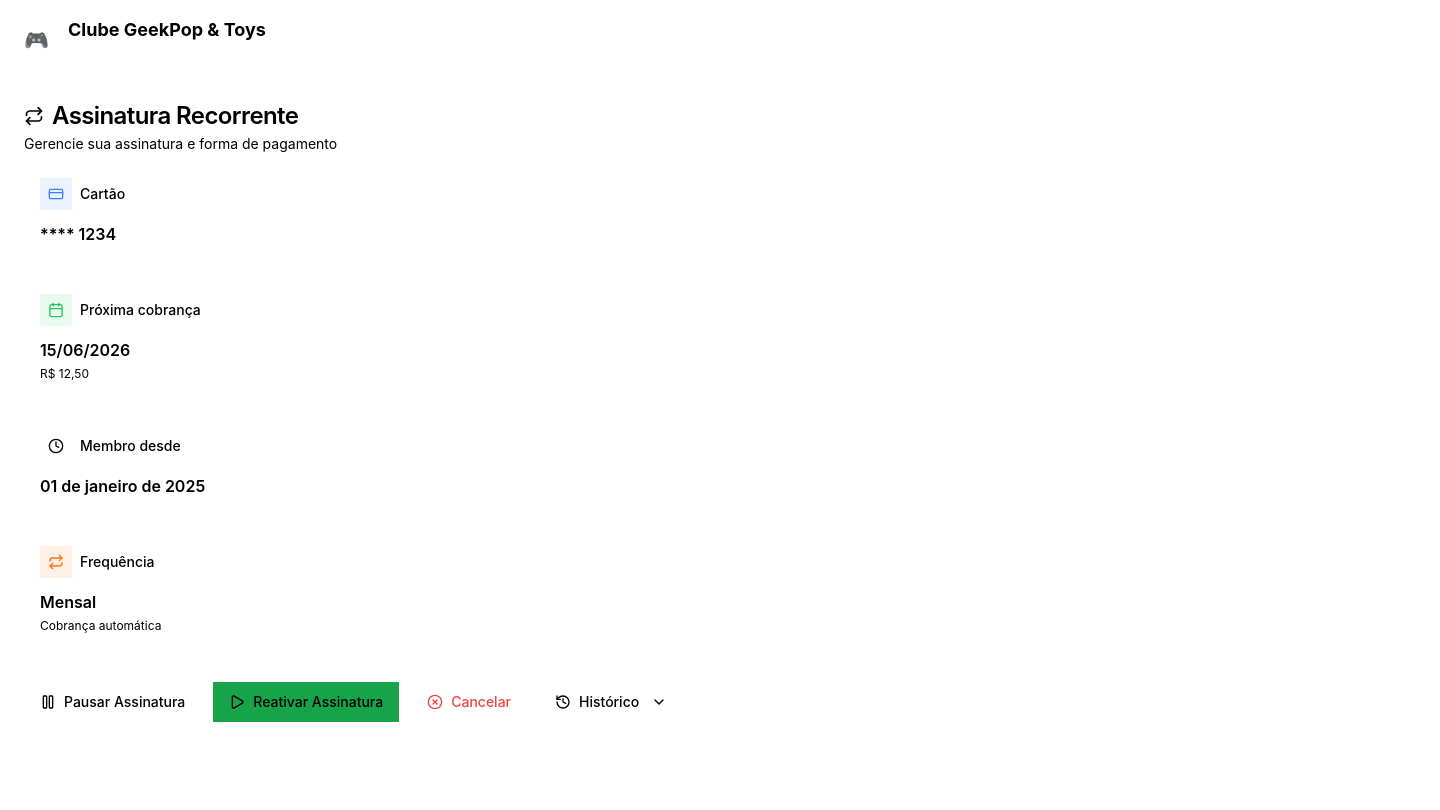
SubscriptionManagement › should open cancel confirmation dialog and show warnings
Click the button "Cancelar": (469, 702) left=411, top=682, right=527, bottom=722
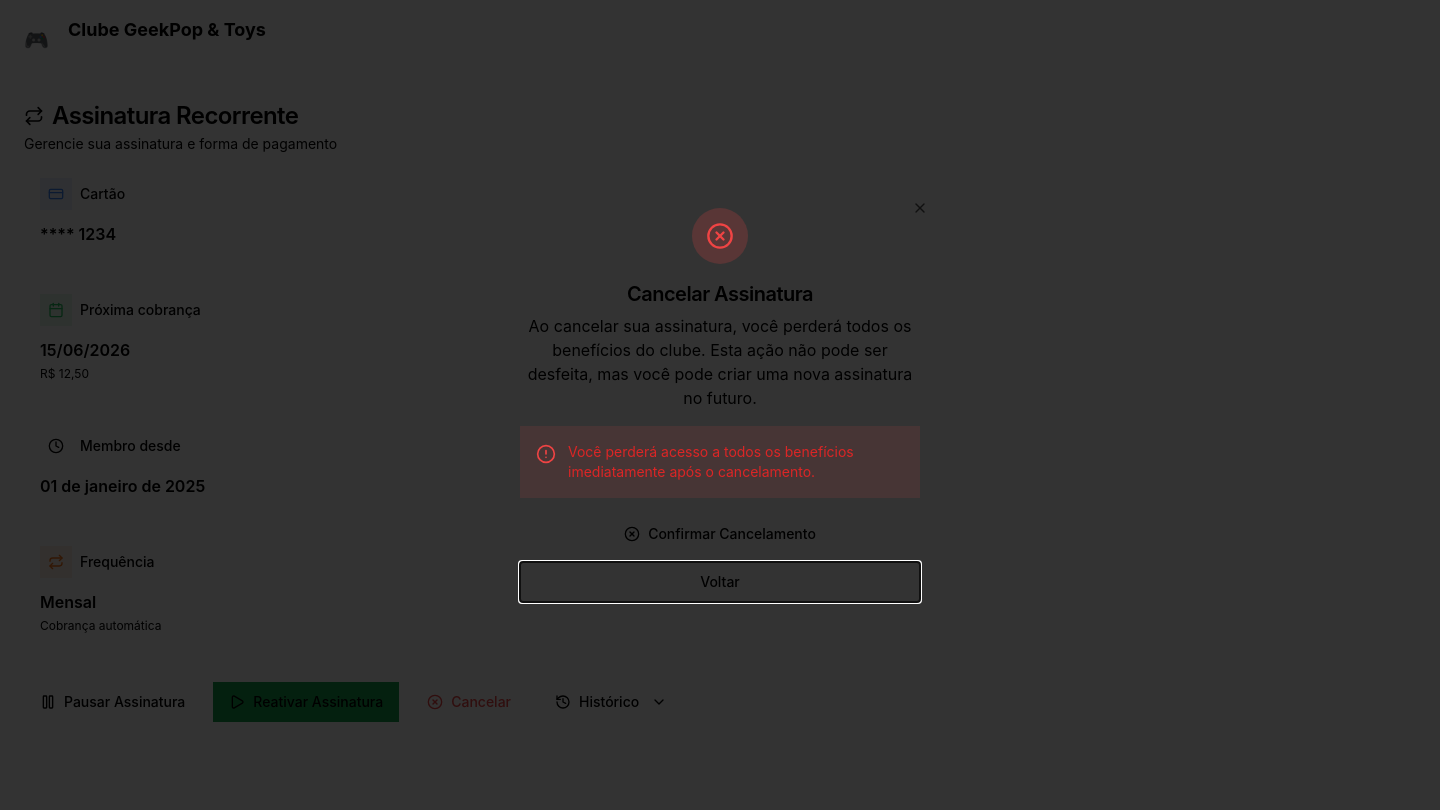
Expected: the heading "Cancelar Assinatura" is shown, left=627, top=282, right=813, bottom=306
Expected: the text "Você perderá acesso a todos os benefícios" is shown, left=568, top=443, right=854, bottom=480
